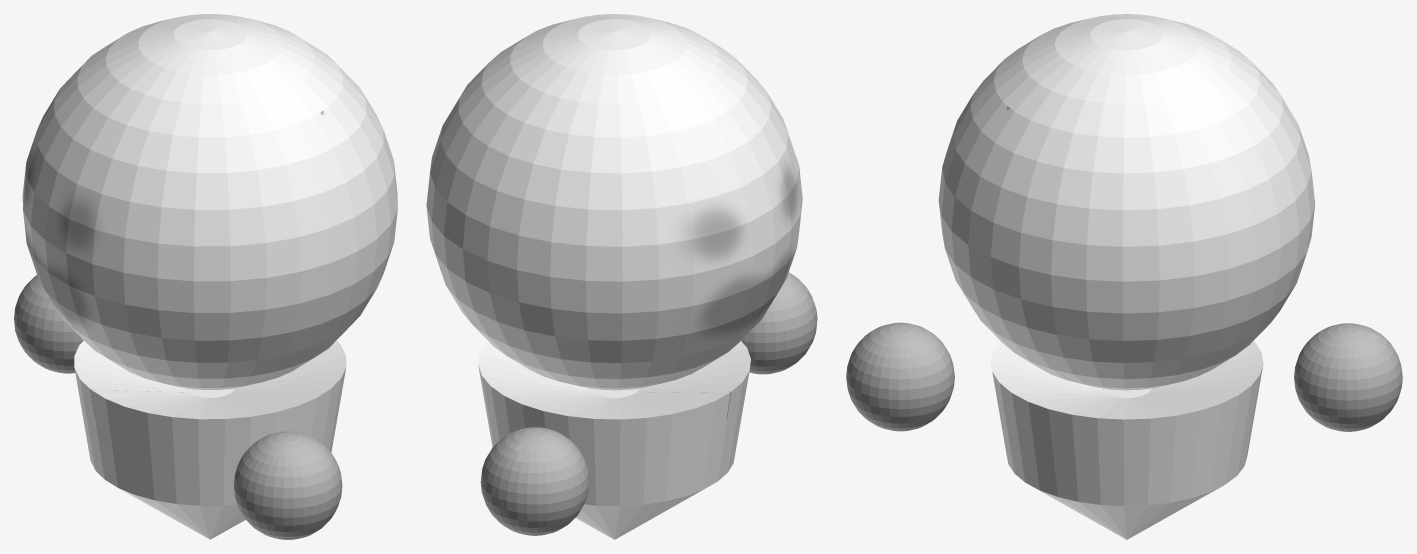
The model's file is userCharacterModel.obj.
3 renders of one model, left to right at view 1: azimuth 30°, elevation 25°; view 2: azimuth 150°, elevation 25°; view 3: azimuth 270°, elevation 25°, orthographic.
Parts seen in each view (by area): view 1: Cone; view 2: Cone; view 3: Cone.
Boxes of the visible parts, x1,y1,x2,y2 form: Cone: [14, 14, 397, 539]; Cone: [426, 14, 817, 539]; Cone: [846, 14, 1402, 539].
Size of the model in its own units: 1.49 by 2.22 by 2.2.
1 material, 1 textured.
